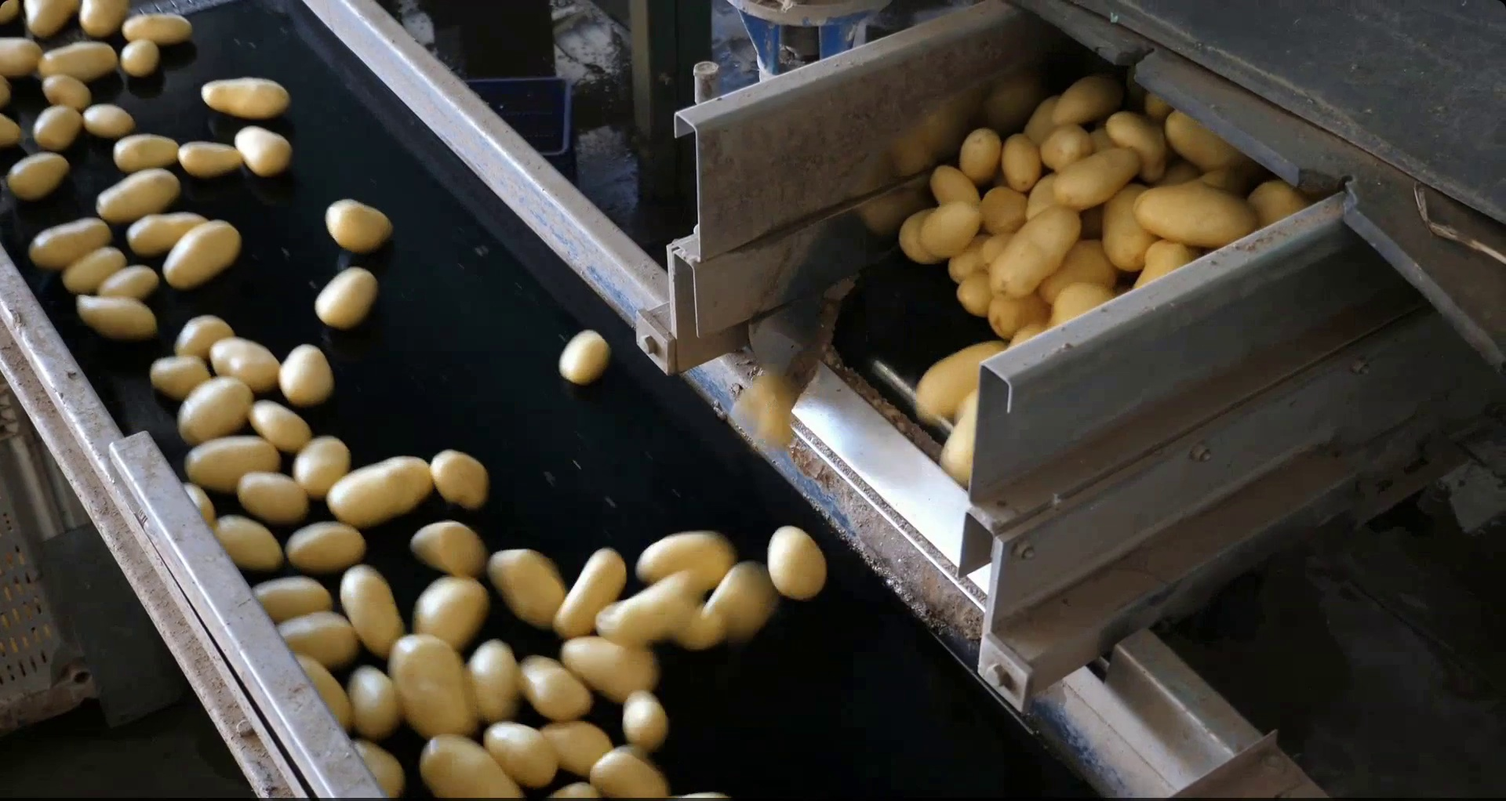potato: (384, 630, 482, 741), (987, 199, 1084, 301), (1131, 178, 1264, 252), (587, 567, 704, 651), (319, 452, 438, 529), (911, 335, 1008, 429), (414, 728, 531, 801), (483, 538, 570, 634), (546, 542, 628, 643), (558, 635, 665, 708), (634, 520, 742, 592), (337, 559, 409, 658), (1163, 106, 1263, 176), (408, 571, 493, 653), (700, 556, 781, 642), (170, 371, 258, 448), (1051, 140, 1145, 212), (158, 214, 247, 290), (180, 432, 286, 495), (722, 367, 802, 450), (85, 164, 184, 228), (293, 648, 359, 741), (271, 606, 364, 672), (464, 631, 526, 727), (1034, 234, 1120, 303), (516, 650, 596, 724), (482, 716, 562, 789), (24, 211, 117, 273), (406, 515, 487, 585), (318, 190, 401, 258), (535, 718, 618, 784), (1094, 179, 1151, 275), (307, 263, 385, 333), (1101, 106, 1170, 184), (205, 331, 289, 395), (281, 518, 370, 577), (195, 73, 294, 125), (766, 524, 831, 602), (122, 208, 219, 259), (70, 289, 162, 342), (586, 745, 673, 801), (206, 512, 285, 573), (249, 571, 338, 625), (347, 661, 404, 745), (1050, 66, 1126, 128), (427, 441, 492, 513), (234, 465, 311, 524), (289, 432, 353, 502), (913, 198, 984, 261), (273, 340, 336, 408), (659, 591, 730, 651), (245, 395, 316, 455), (56, 244, 133, 299), (348, 729, 410, 797), (553, 323, 616, 389), (3, 147, 73, 205), (144, 349, 213, 404), (168, 310, 238, 364), (35, 38, 121, 81), (937, 411, 981, 494), (1246, 172, 1316, 224), (615, 687, 671, 751), (1035, 119, 1097, 176), (233, 124, 296, 180), (173, 134, 250, 179), (893, 204, 944, 270), (1049, 280, 1119, 328), (923, 162, 984, 216), (955, 120, 1004, 187), (1137, 232, 1200, 283), (110, 130, 183, 172), (31, 99, 85, 154), (1000, 129, 1043, 198), (991, 287, 1050, 336), (91, 262, 162, 302), (118, 9, 196, 45), (944, 228, 995, 283), (979, 181, 1026, 237), (36, 73, 96, 113), (79, 100, 140, 139), (178, 473, 220, 529), (22, 1, 80, 41), (1025, 172, 1065, 230), (77, 2, 137, 40), (1019, 90, 1061, 144), (954, 271, 998, 322), (118, 36, 164, 81), (2, 34, 44, 80), (1005, 317, 1054, 351), (977, 227, 1014, 268), (1, 107, 27, 155), (1194, 162, 1240, 189), (540, 781, 602, 801), (1084, 120, 1118, 154), (1159, 158, 1196, 187), (1138, 85, 1170, 115), (952, 389, 980, 422), (671, 788, 733, 801), (1, 71, 16, 111), (2, 2, 24, 28), (1126, 269, 1149, 289)
